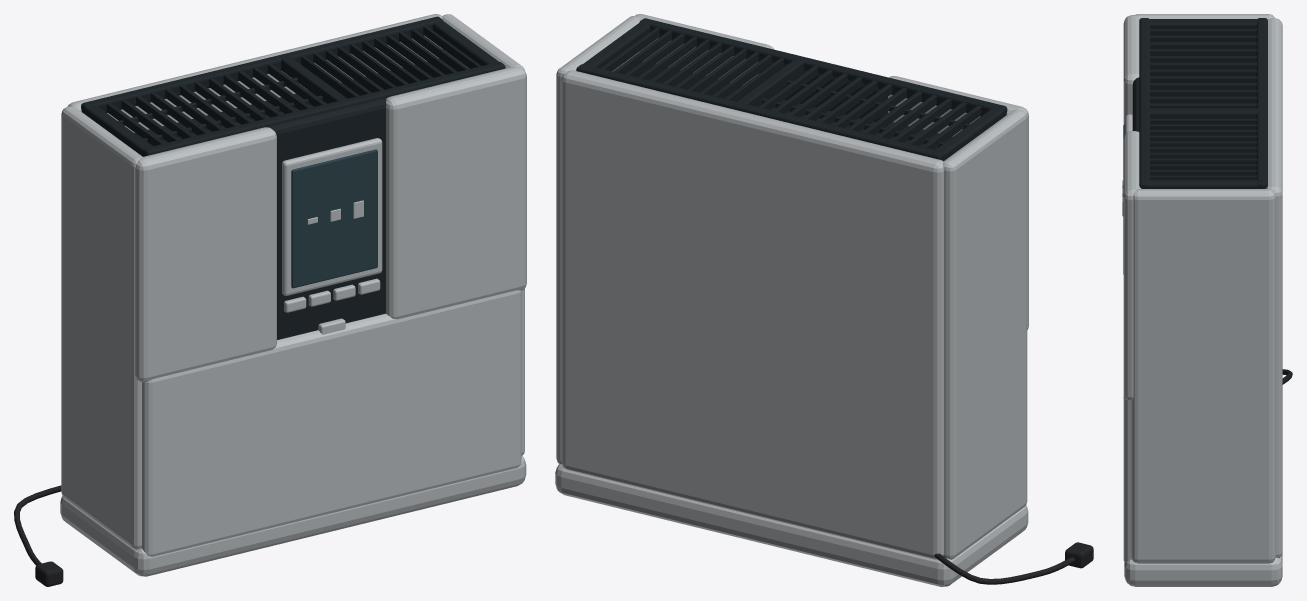
The model's file is A-NEW-20261026-AIR-PURIFIER-001_LOD1_R2.glb.
3 views of the same model, side by side, from view 1: azimuth 30°, elevation 25°; view 2: azimuth 150°, elevation 25°; view 3: azimuth 270°, elevation 25° (orthographic). The views are drawn at different scales.
Parts seen in each view (by area): view 1: wide lower front, left front shoulder, right front shoulder, left sidewall, portrait dark display, main housing, deep central console, exhaust edge rail 1, portrait screen surround, exhaust edge rail -1, plain rear panel, right sidewall (+12 smaller); view 2: plain rear panel, left sidewall, main housing, exhaust edge rail -1, right sidewall, exhaust edge rail 1, left front shoulder, split exhaust divider, exhaust end rail -1, exhaust end rail 1, rear power cable, right front shoulder; view 3: right sidewall, plain rear panel, main housing, right front shoulder, exhaust edge rail -1, exhaust edge rail 1, wide lower front, left front shoulder, split exhaust divider, exhaust end rail 1, exhaust end rail -1, left exhaust slat 00 (+24 smaller).
Part boxes in pixels (left/top/right/bottom): wide lower front: left=141, top=290, right=521, bottom=556; left front shoulder: left=135, top=127, right=276, bottom=382; right front shoulder: left=385, top=66, right=526, bottom=319; left sidewall: left=61, top=106, right=142, bottom=549; portrait dark display: left=291, top=149, right=377, bottom=288; main housing: left=60, top=456, right=526, bottom=576; deep central console: left=268, top=98, right=386, bottom=339; exhaust edge rail 1: left=81, top=16, right=442, bottom=113; portrait screen surround: left=282, top=138, right=382, bottom=295; exhaust edge rail -1: left=143, top=62, right=505, bottom=156; plain rear panel: left=67, top=14, right=442, bottom=132; right sidewall: left=442, top=14, right=524, bottom=455; plain rear panel: left=561, top=70, right=943, bottom=559; left sidewall: left=943, top=109, right=1027, bottom=559; main housing: left=555, top=464, right=1028, bottom=586; exhaust edge rail -1: left=639, top=18, right=1007, bottom=116; right sidewall: left=556, top=16, right=639, bottom=464; exhaust edge rail 1: left=576, top=64, right=944, bottom=161; left front shoulder: left=888, top=76, right=1028, bottom=329; split exhaust divider: left=736, top=58, right=803, bottom=106; exhaust end rail -1: left=935, top=108, right=1003, bottom=160; exhaust end rail 1: left=583, top=22, right=650, bottom=68; rear power cable: left=934, top=553, right=1075, bottom=584; right front shoulder: left=635, top=14, right=774, bottom=85; right sidewall: left=1131, top=189, right=1275, bottom=563; plain rear panel: left=1266, top=18, right=1282, bottom=557; main housing: left=1124, top=553, right=1282, bottom=586; right front shoulder: left=1123, top=131, right=1141, bottom=401; exhaust edge rail -1: left=1139, top=18, right=1150, bottom=188; exhaust edge rail 1: left=1256, top=18, right=1267, bottom=188; wide lower front: left=1123, top=394, right=1131, bottom=562; left front shoulder: left=1123, top=15, right=1139, bottom=124; split exhaust divider: left=1145, top=108, right=1262, bottom=118; exhaust end rail 1: left=1147, top=179, right=1259, bottom=188; exhaust end rail -1: left=1149, top=19, right=1257, bottom=28; left exhaust slat 00: left=1150, top=28, right=1256, bottom=35.
Size of the model in its own units: 0.552 by 0.473 by 0.183.
